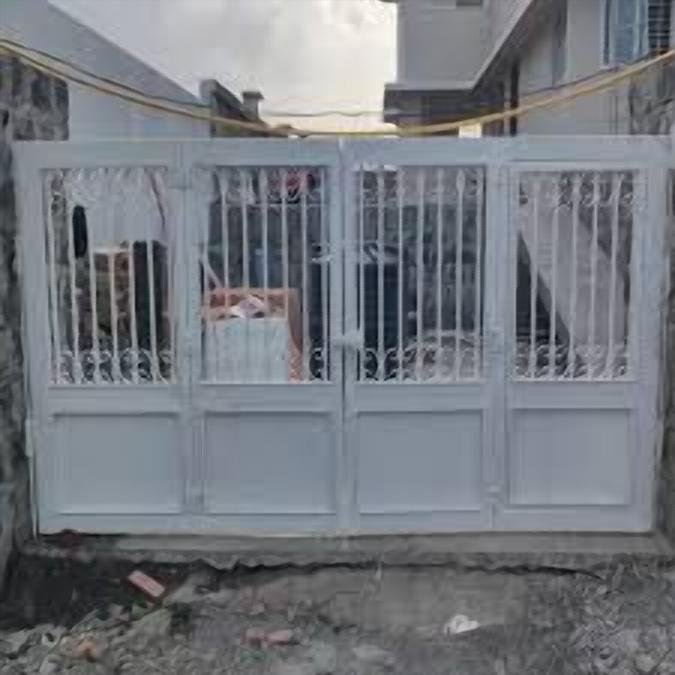Gate: (7, 133, 675, 540)
Window-without-grill: (604, 0, 675, 68), (551, 0, 567, 83)
